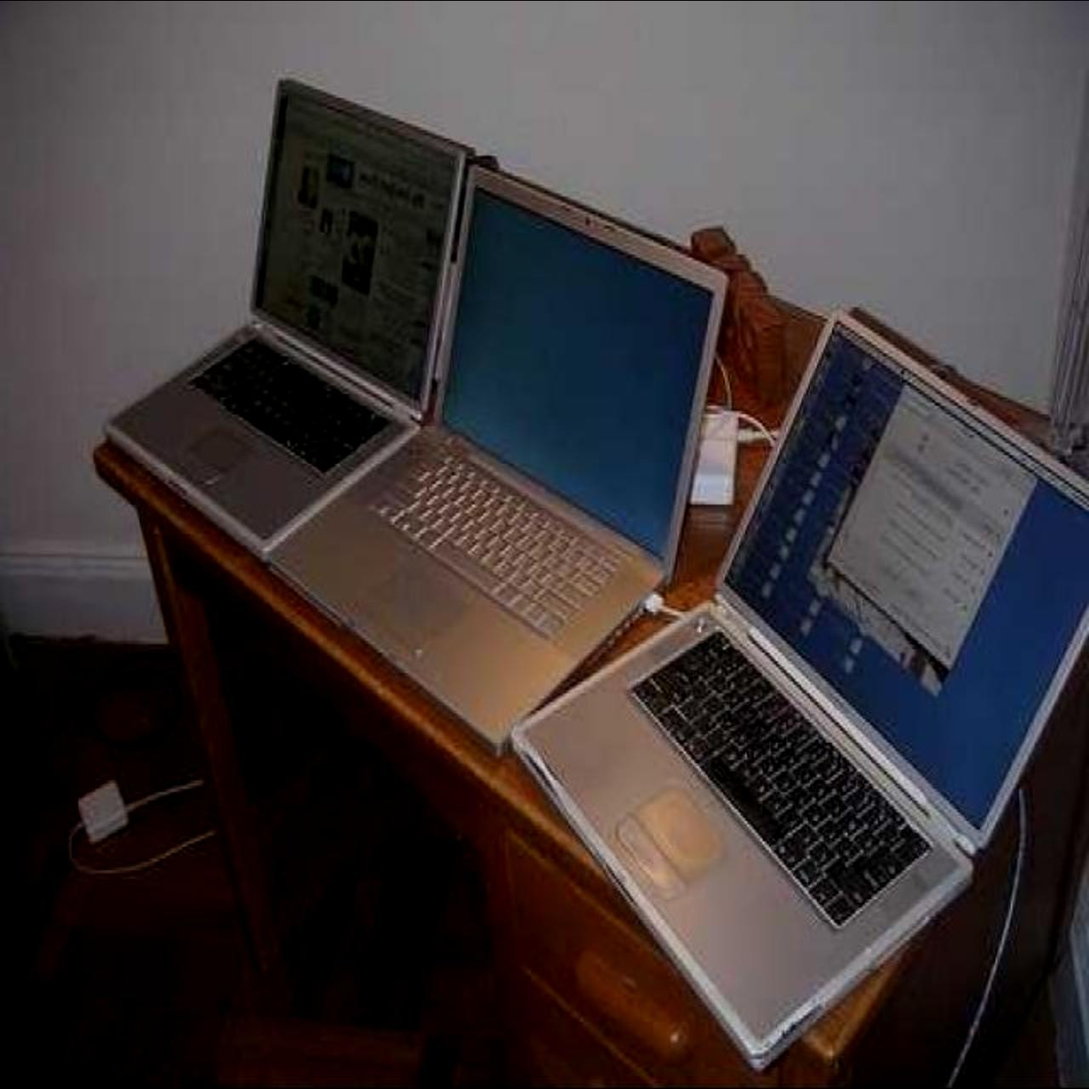laptop: (648, 332, 1080, 972), (315, 182, 720, 723), (68, 116, 449, 538)
